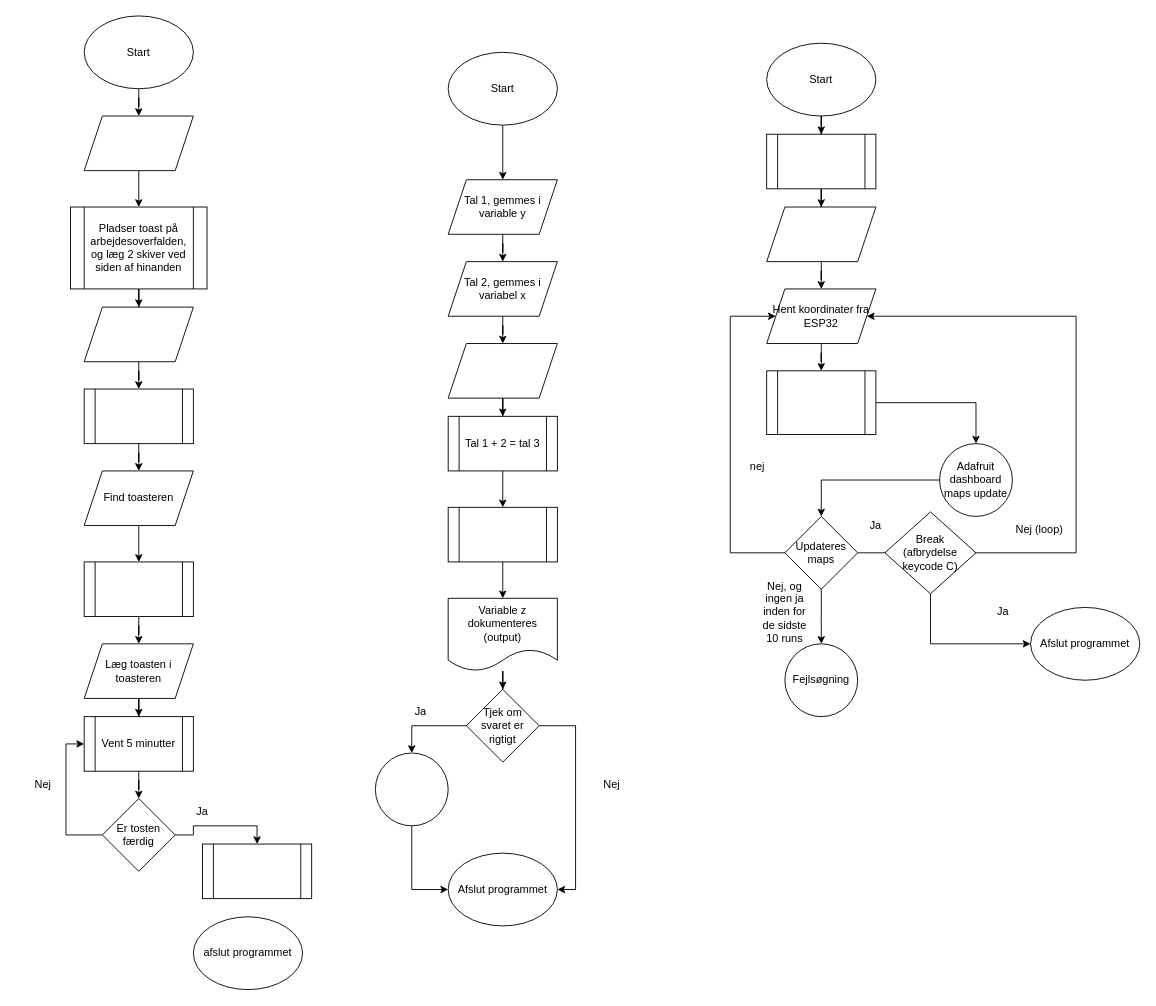
Some shapes in this 1156 by 1006 pixel diagram are drawn without their labels. The shapes that lost their labels are listed below. From the top down, each one's centre as x and y in pixels, then its label:
At pixel 138 143: "Find toast brød".
At pixel 821 161: "Adafruit connection opsættes".
At pixel 821 234: "Adafruit forbindelse".
At pixel 138 334: "Find Hamberyg".
At pixel 502 370: "Formlen y + x = z".
At pixel 138 416: "Læg hamberyg på den ene toast skive".
At pixel 821 402: "ESP32 Devkit omregner koordinater og sendes til adafruit".
At pixel 502 534: "Tal 3 sættes til variabel z".
At pixel 138 589: "Tænd toasten".
At pixel 411 789: "Udregning af lommeregner".
At pixel 257 871: "Tag toasten fra toasten og sluk toasteren".
